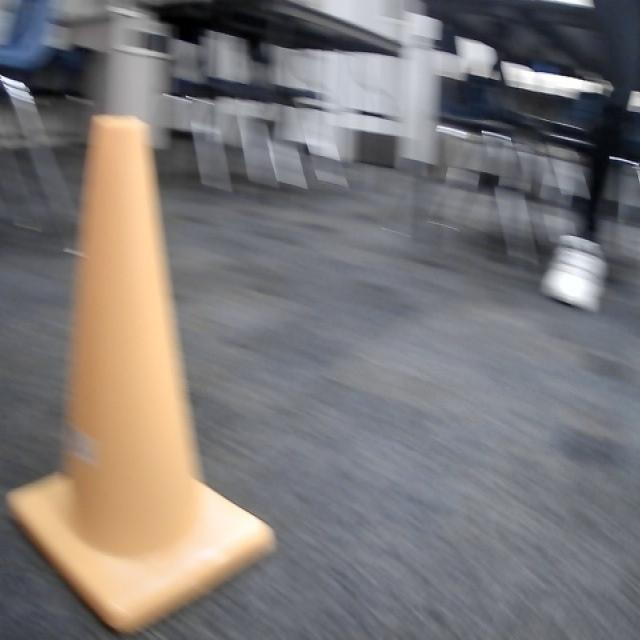cone: (0, 115, 280, 637)
